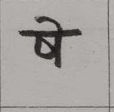e_matra: (37, 16, 65, 30)
